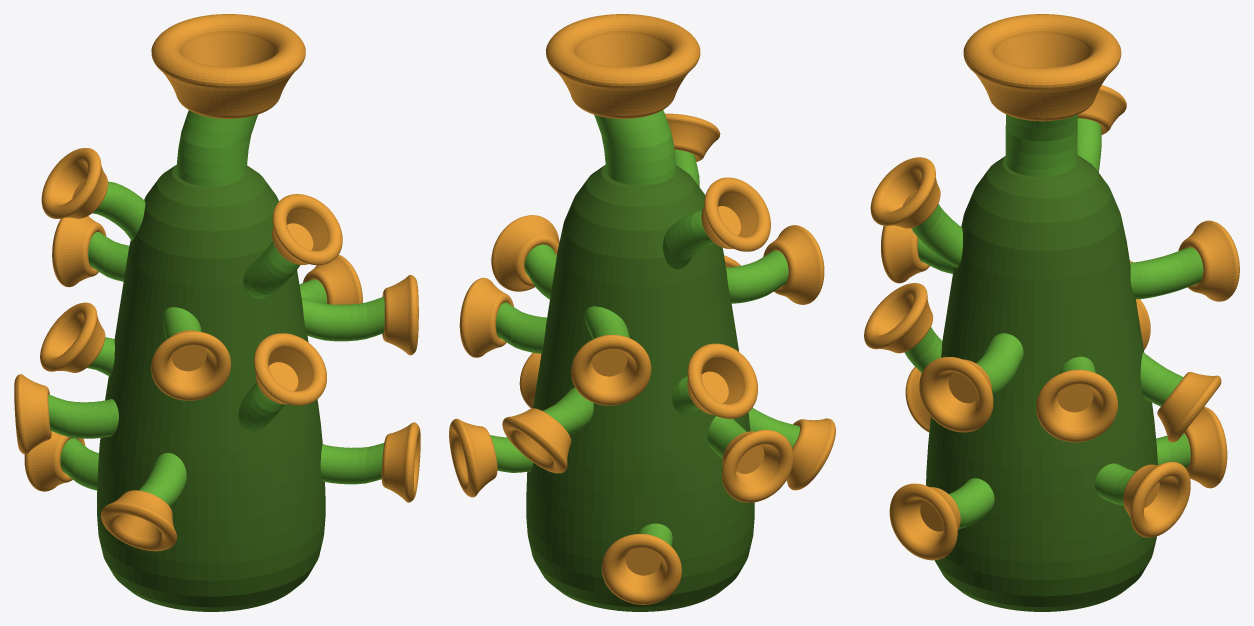
Rendered from Attact Mushroom.fbx.
3 views of the same model, side by side, from view 1: azimuth 30°, elevation 25°; view 2: azimuth 150°, elevation 25°; view 3: azimuth 270°, elevation 25° (orthographic). The views are drawn at different scales.
Visible parts, largest first — view 1: Cylinder.001, Torus, Stem.001, Torus.007, Torus.008, Torus.001, Torus.005, Torus.013, Torus.012, Stem.003, Torus.003, Stem.011 (+14 smaller); view 2: Cylinder.001, Torus, Stem.001, Torus.010, Torus.003, Torus.012, Torus.011, Torus.005, Torus.002, Torus.006, Torus.007, Torus.004 (+15 smaller); view 3: Cylinder.001, Torus, Stem.001, Torus.004, Torus.002, Torus.009, Torus.014, Torus.001, Torus.008, Torus.003, Stem.004, Torus.010 (+14 smaller).
Boxes of the visible parts, box(x1,y1,x2,y2) form: Cylinder.001: box(97, 165, 325, 611); Torus: box(151, 14, 305, 118); Stem.001: box(176, 110, 257, 186); Torus.007: box(151, 330, 230, 400); Torus.008: box(254, 333, 326, 405); Torus.001: box(272, 194, 342, 265); Torus.005: box(41, 148, 108, 218); Torus.013: box(101, 490, 176, 551); Torus.012: box(40, 302, 105, 372); Stem.003: box(301, 296, 384, 341); Torus.003: box(52, 216, 106, 287); Stem.011: box(48, 394, 118, 438); Cylinder.001: box(526, 165, 754, 611); Torus: box(546, 14, 700, 118); Stem.001: box(594, 110, 676, 185); Torus.010: box(601, 534, 681, 604); Torus.003: box(571, 335, 651, 405); Torus.012: box(687, 343, 757, 418); Torus.011: box(721, 430, 793, 502); Torus.005: box(701, 177, 770, 251); Torus.002: box(491, 215, 559, 291); Torus.006: box(502, 408, 571, 473); Torus.007: box(763, 225, 824, 304); Torus.004: box(459, 277, 513, 357); Cylinder.001: box(926, 154, 1157, 611); Torus: box(963, 14, 1121, 121); Stem.001: box(1005, 114, 1077, 176); Torus.004: box(1036, 369, 1117, 442); Torus.002: box(919, 357, 993, 432); Torus.009: box(889, 483, 960, 560); Torus.014: box(1123, 462, 1190, 537); Torus.001: box(870, 157, 940, 228); Torus.008: box(864, 283, 933, 353); Torus.003: box(1178, 220, 1239, 301); Stem.004: box(1130, 247, 1203, 299); Torus.010: box(1184, 406, 1227, 488).
Bounding box in the file's own units: 642 × 935 × 588.
